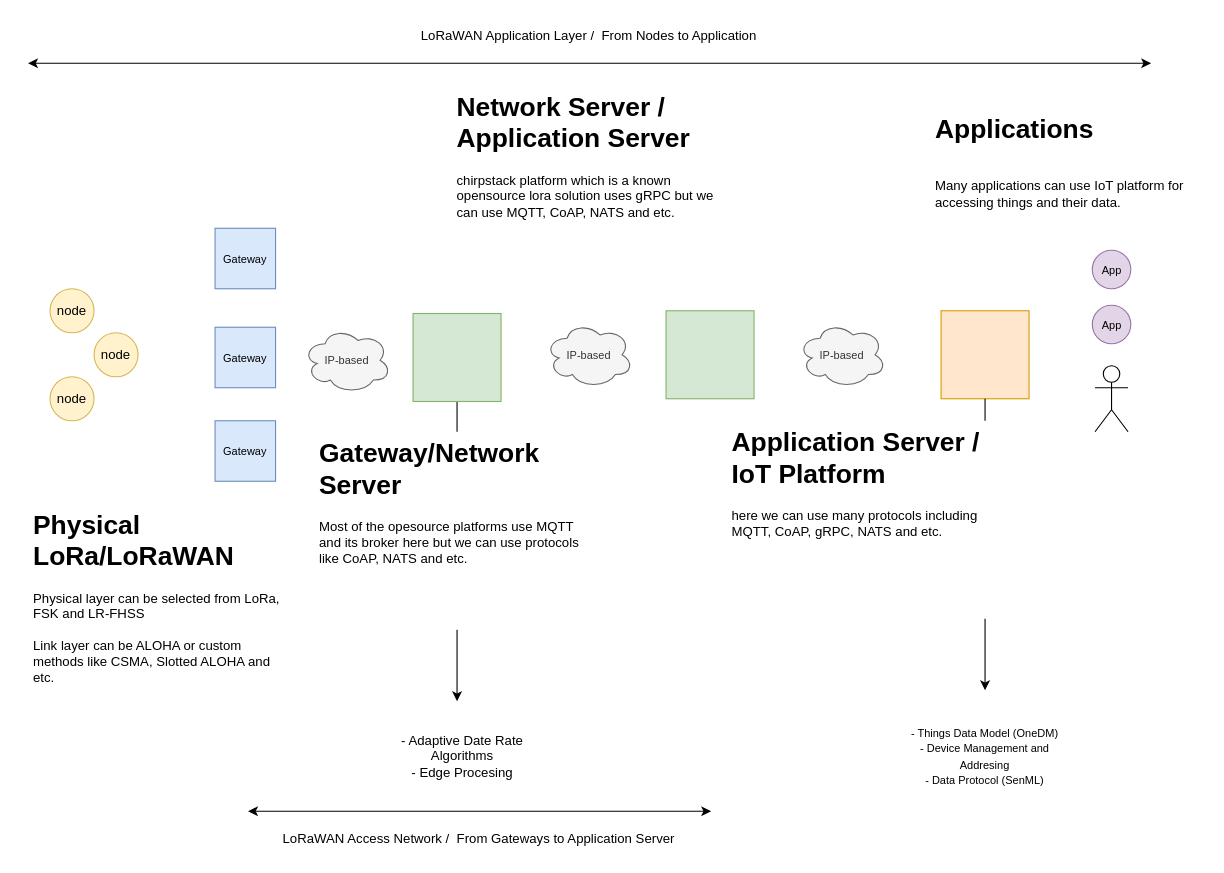
The diagram is 1224 pixels wide and 873 high, and some of its shapes have lost their labels. The box of each missing label's shape, as (x1, y1, x2, y2) in pixels:
Actor: (1094, 365, 1128, 432)
Application Server: (665, 310, 754, 399)
Network Server: (412, 312, 501, 402)
Platform: (940, 310, 1029, 399)
